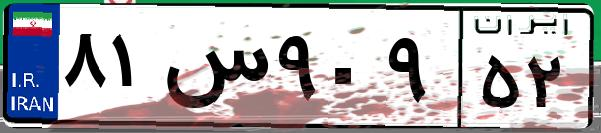0: (330, 28, 385, 110)
1: (110, 28, 158, 98)
2: (525, 38, 570, 115)
5: (475, 38, 525, 113)
8: (57, 26, 110, 100)
9: (270, 28, 330, 110), (385, 28, 445, 110)
س: (158, 20, 270, 120)
